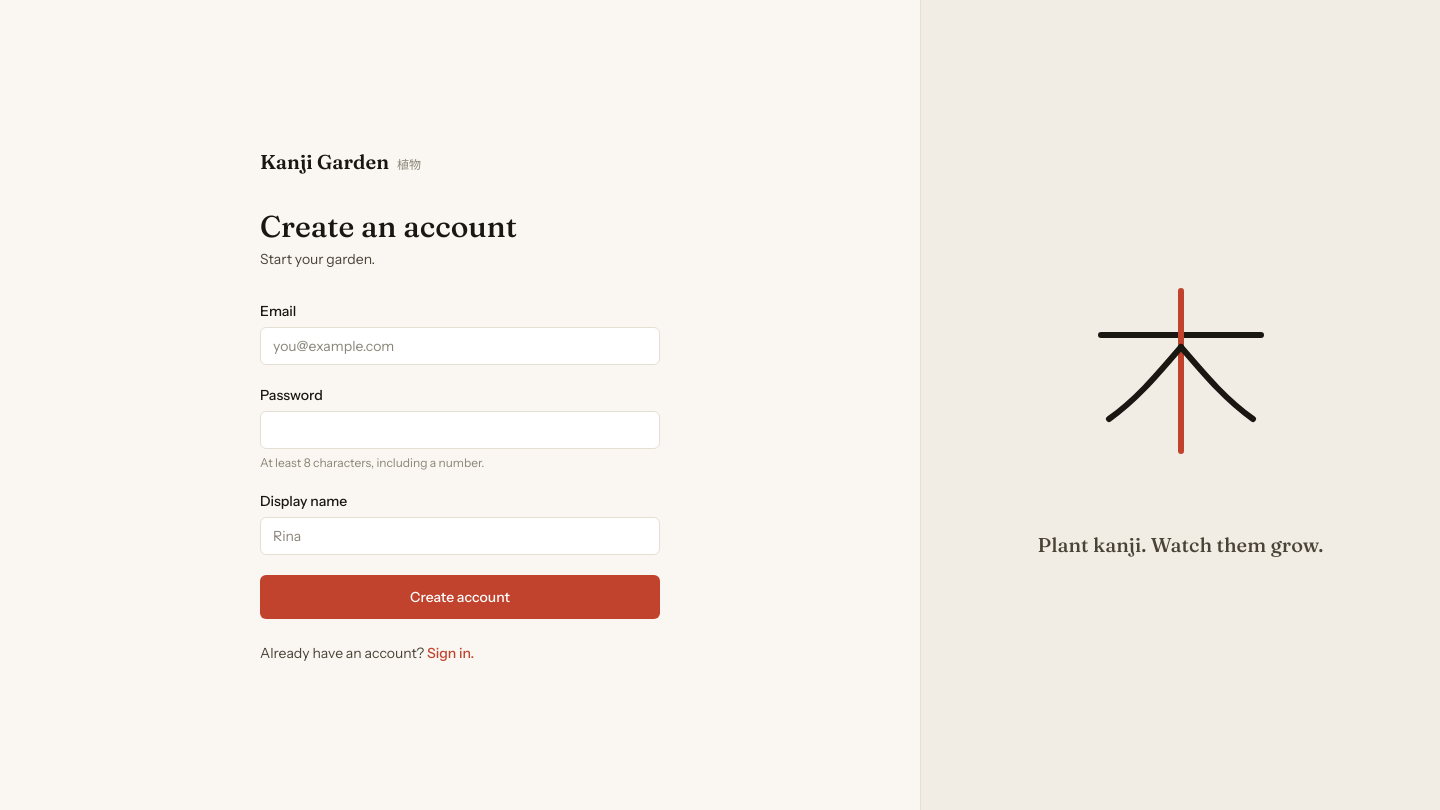
Test: Register screen (§7.11) › enforces min 8 chars + one number
Type "shrt" into the password field labelled "Password" at (460, 430), box [260,411,660,449]
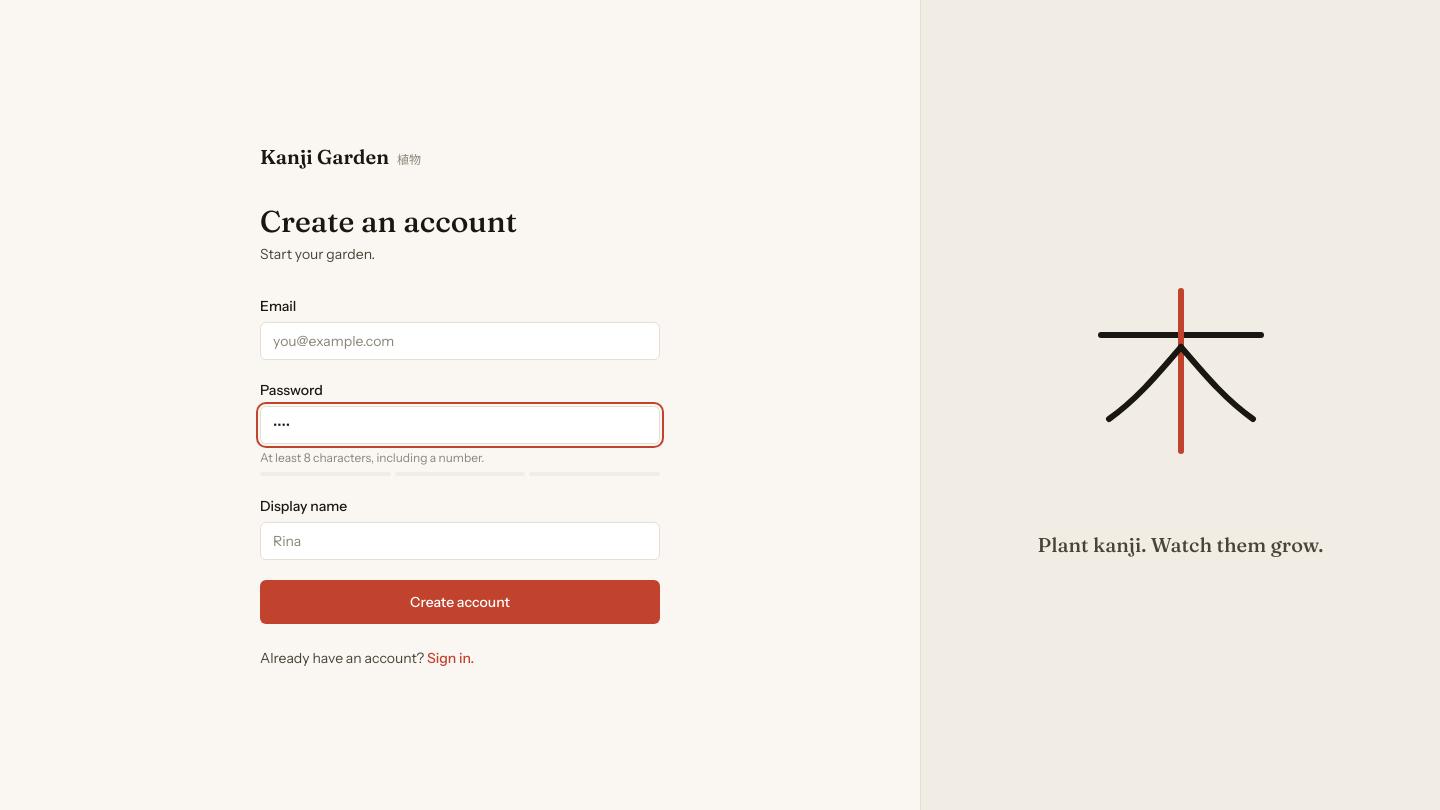
Click the button "Create account" at (460, 602), box [260,580,660,624]
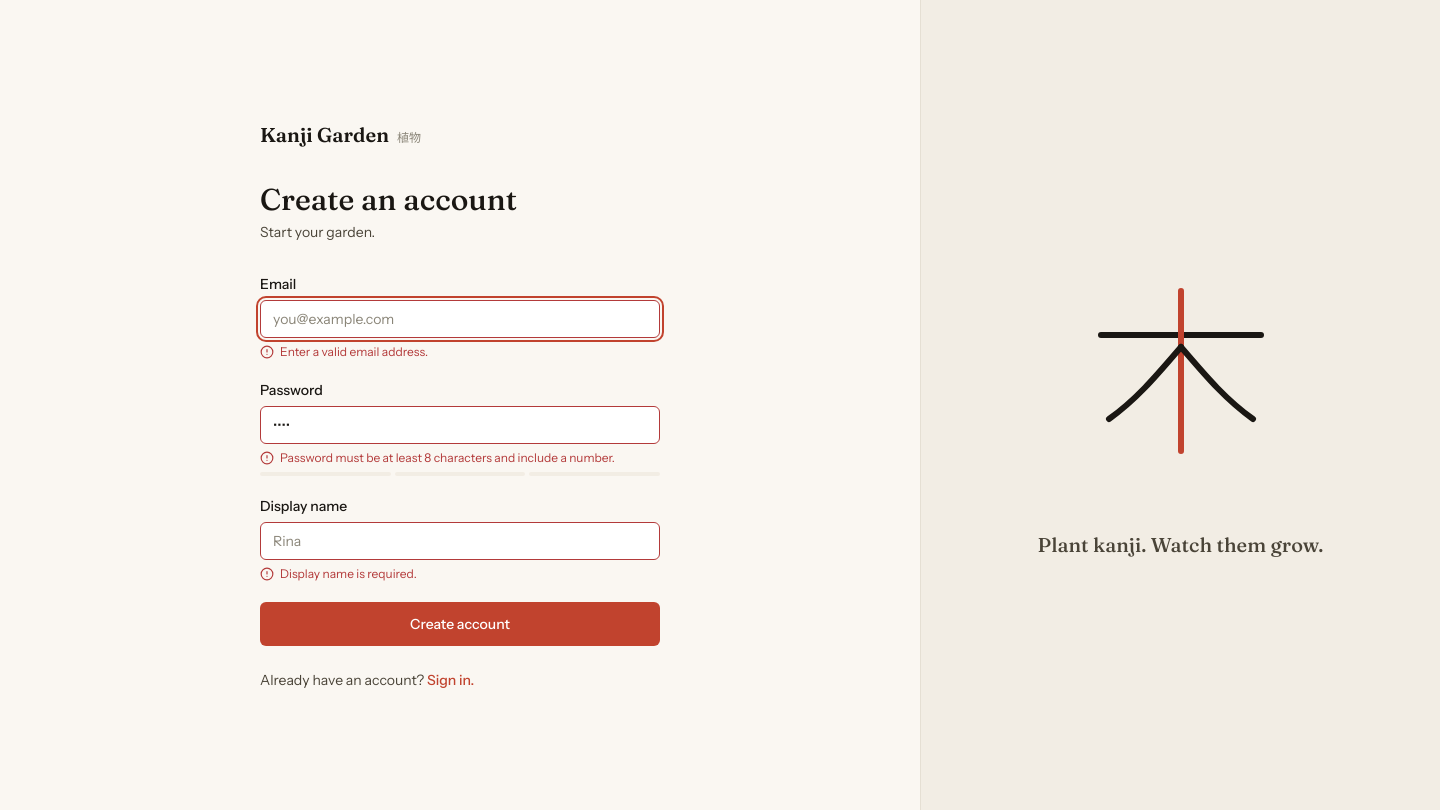
Check: the text "Password must be at least 8 characters and include a number." is shown, box [260,450,660,466]
